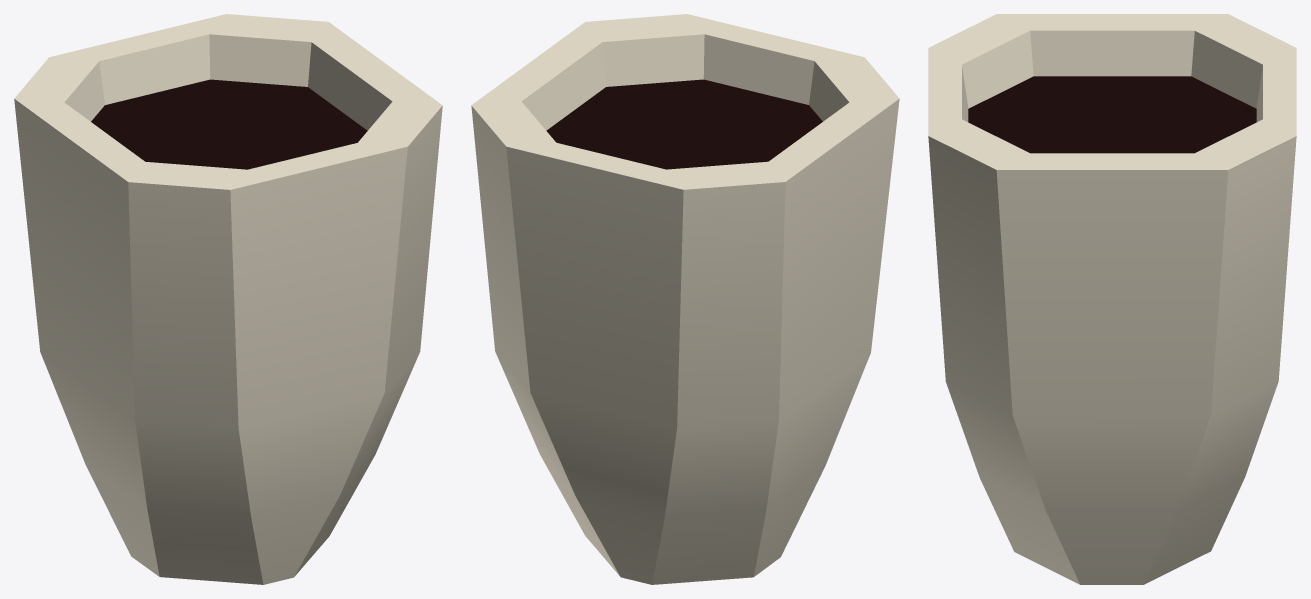
Rendered from SM_cup_thick.fbx.
The picture shows the model from 3 angles, left to right: view 1: azimuth 30°, elevation 25°; view 2: azimuth 150°, elevation 25°; view 3: azimuth 270°, elevation 25°; orthographic projection.
Parts seen in each view (by area): view 1: cup_thick; view 2: cup_thick; view 3: cup_thick.
Part boxes in pixels (<box>): cup_thick: <box>14,14,442,584</box>; cup_thick: <box>471,14,899,584</box>; cup_thick: <box>928,14,1296,584</box>.
Size of the model in its own units: 15.77 by 21.34 by 15.74.
